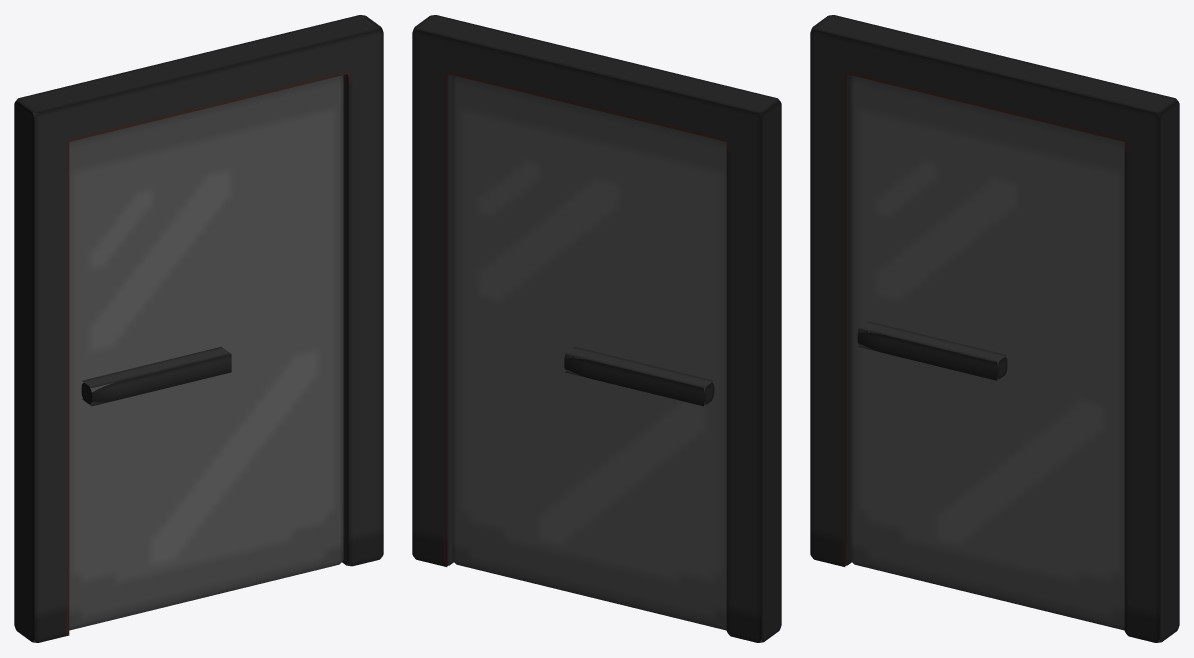
The model's file is IronDoor.fbx.
3 views of the same model, side by side, from view 1: azimuth 30°, elevation 25°; view 2: azimuth 150°, elevation 25°; view 3: azimuth 330°, elevation 25° (orthographic).
Parts seen in each view (by area): view 1: cuboid, Rahmen, cuboid_2; view 2: cuboid, Rahmen, cuboid_1; view 3: cuboid, Rahmen, cuboid_2.
Part boxes in pixels (box(x1,y1,x2,y2)): cuboid: box(69, 75, 343, 630); Rahmen: box(14, 15, 383, 642); cuboid_2: box(81, 346, 231, 406); cuboid: box(452, 75, 726, 630); Rahmen: box(412, 15, 781, 642); cuboid_1: box(564, 346, 714, 406); cuboid: box(850, 75, 1124, 630); Rahmen: box(810, 15, 1179, 642); cuboid_2: box(857, 321, 1007, 380).
Bounding box in the file's own units: 250 × 362 × 37.5.
Materials: 1 (1 with a texture image).
